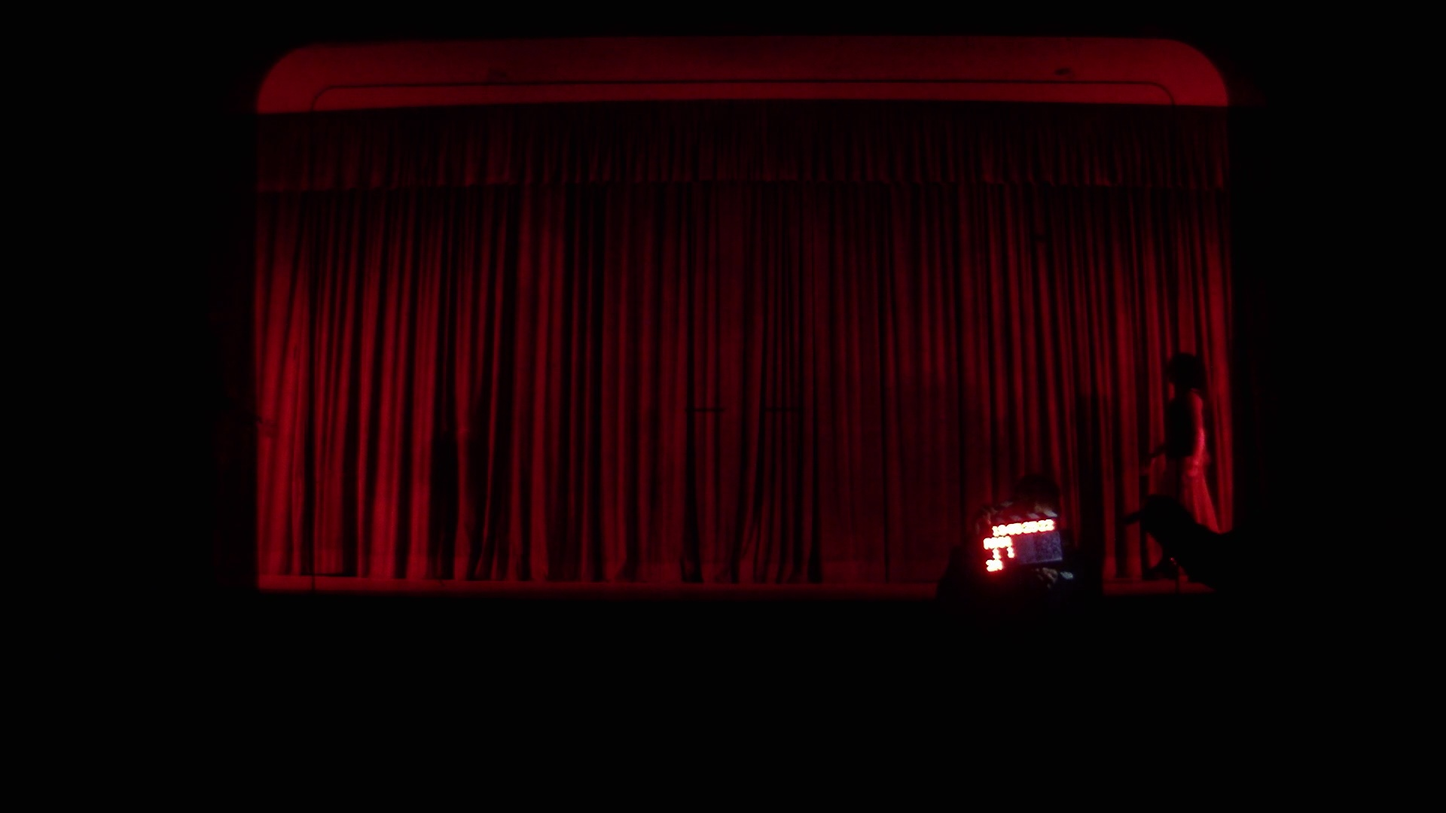ARC-SLATE: (977, 508, 1069, 578)
